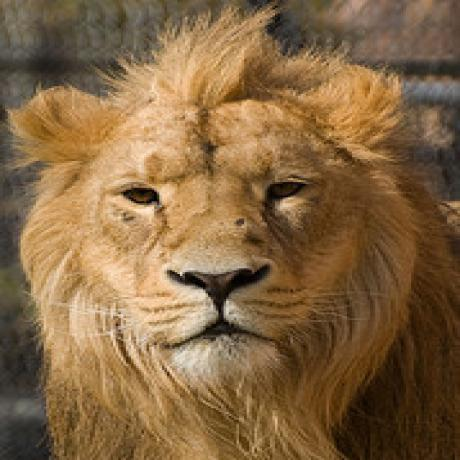Lion: (5, 8, 460, 460)
